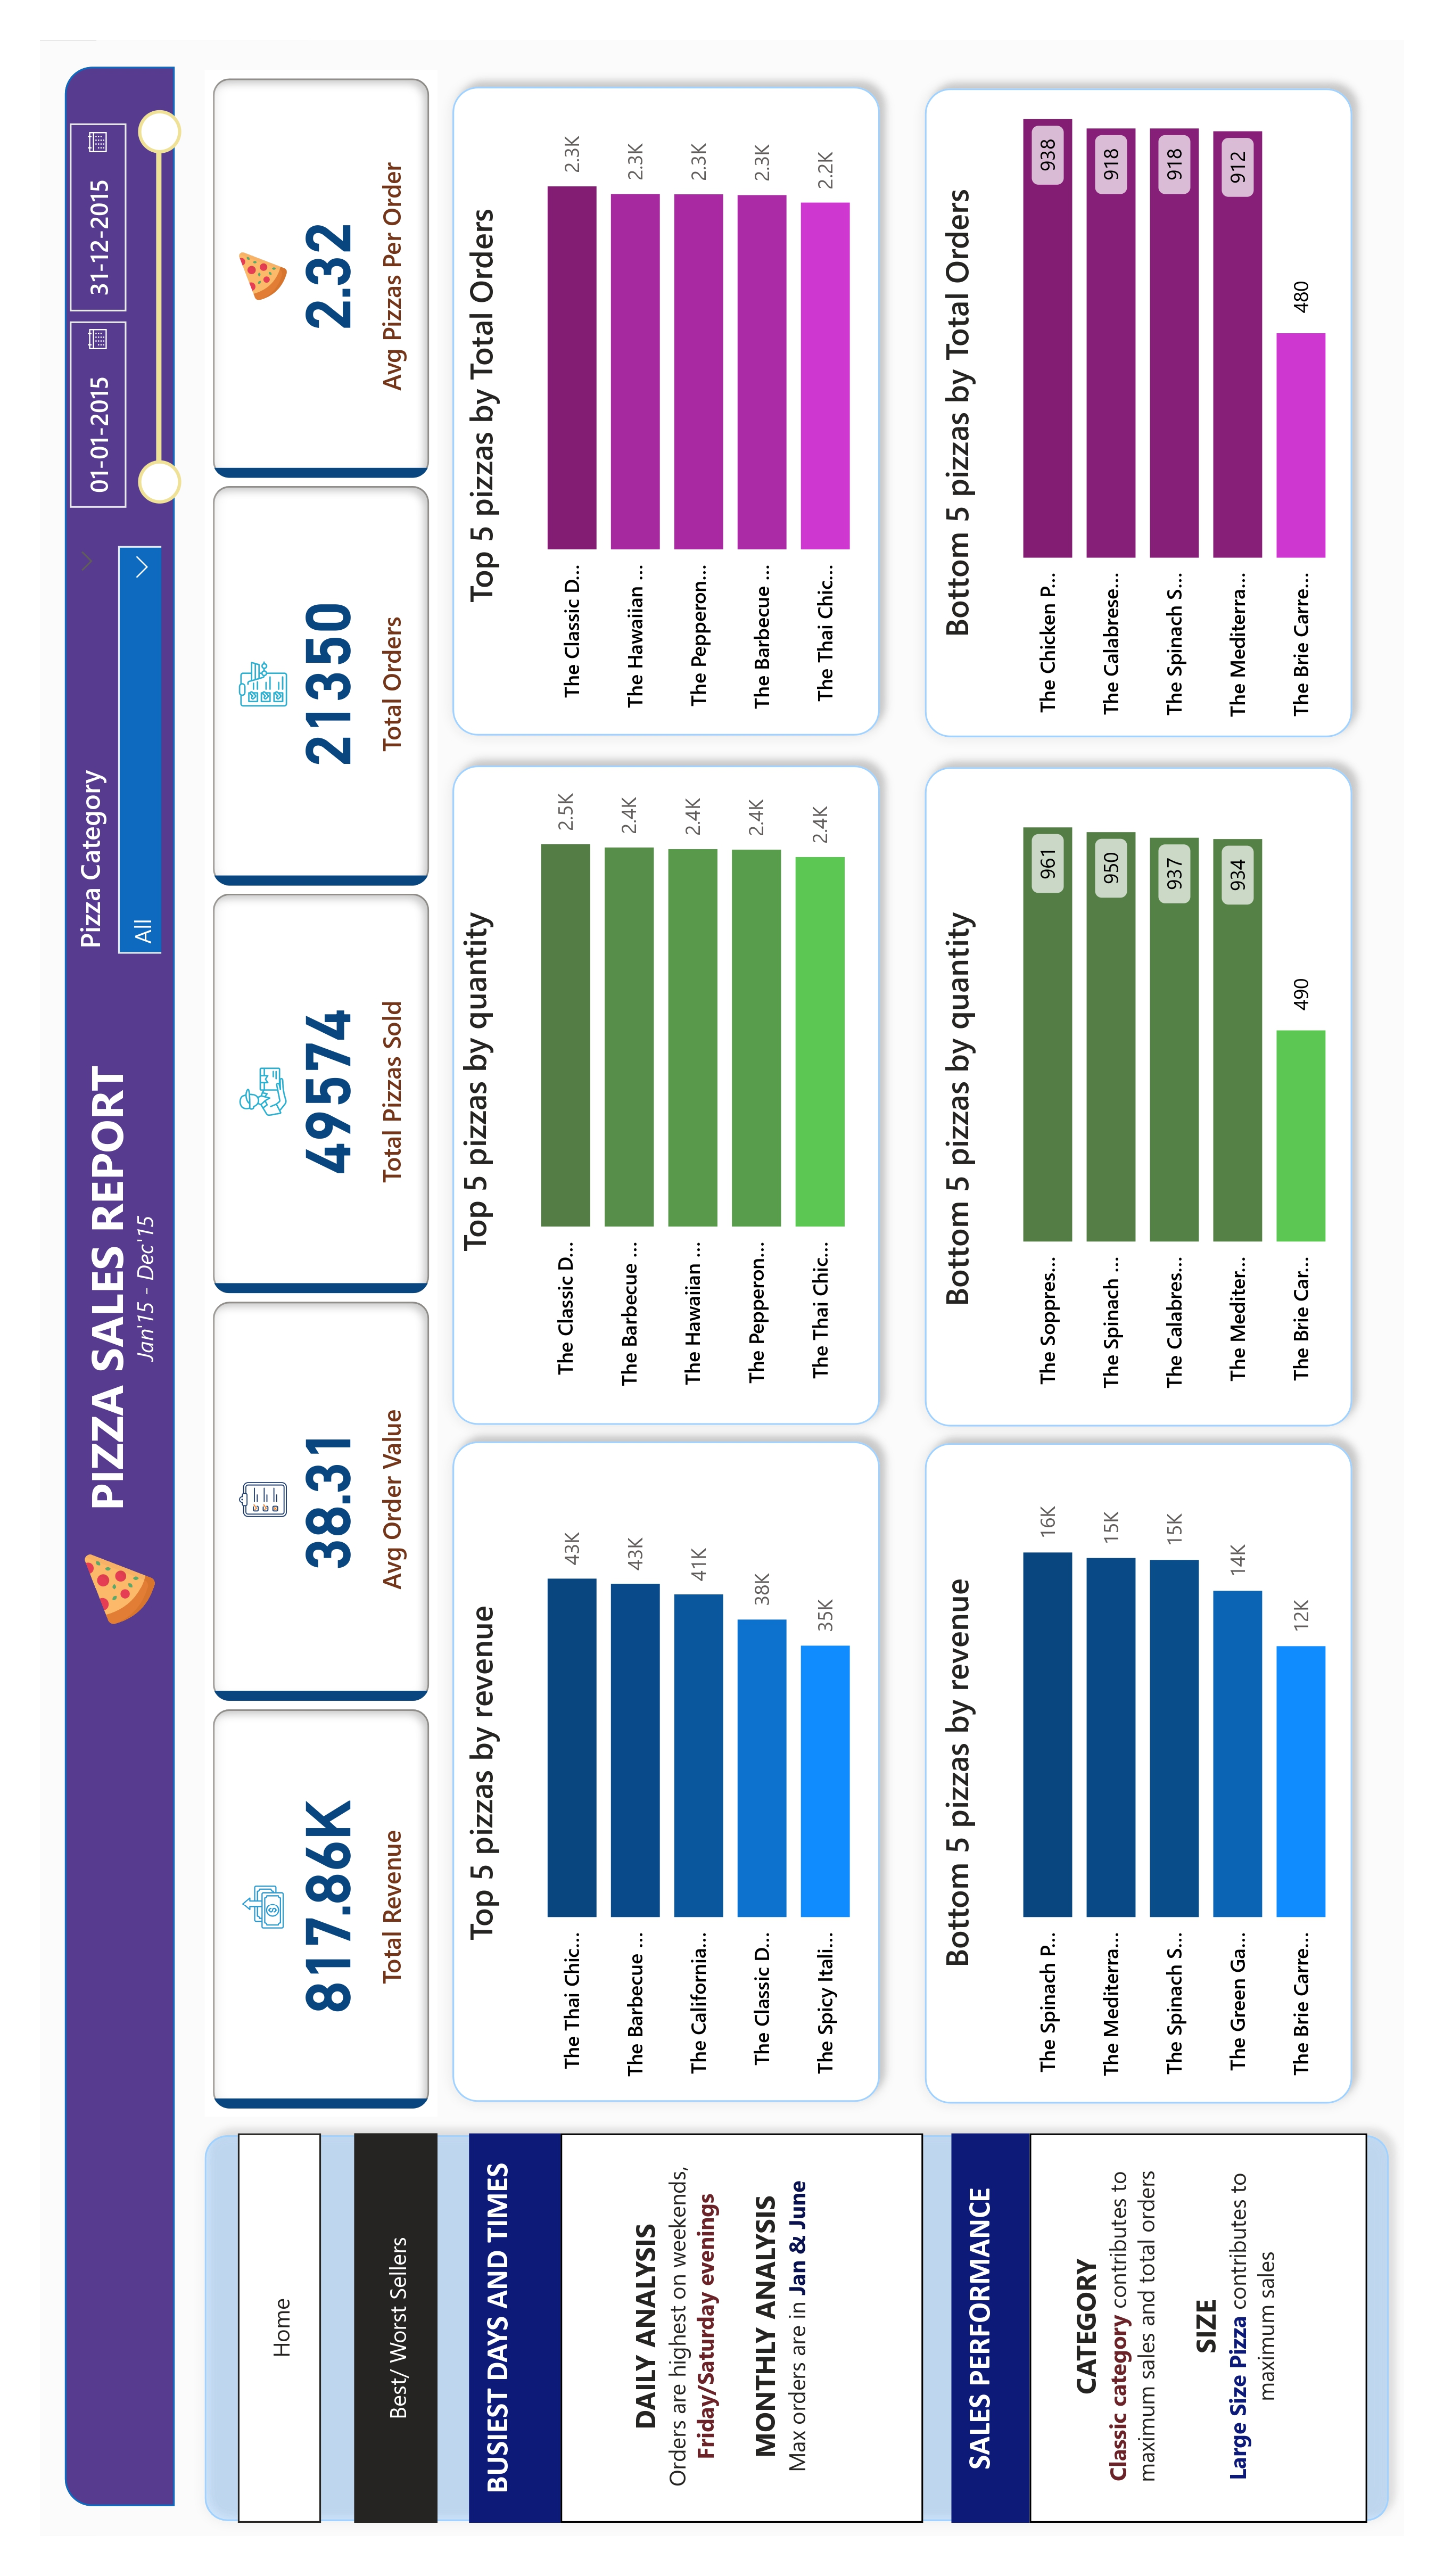

Layout of this report page (visuals, bound fields, positions):
{"tool":"powerbi","page":{"name":"Best/ Worst Sellers","canvas":[1500,820],"ordinal":1},"visuals":[{"type":"cardVisual","fields":{"Data":["pizza_sales.Total Revenue","pizza_sales.Avg Order Value","pizza_sales.Total Pizzas Sold","pizza_sales.Total Orders","pizza_sales.Avg Pizzas Per Order"]},"box":[252.2,98.5,1229.9,140.3],"z":0},{"type":"shape","box":[17.9,14.9,1465.7,65.7],"z":1000},{"type":"textbox","box":[0,16.4,1500,52.2],"z":2000},{"type":"textbox","box":[0,49.3,1500,40.3],"z":3000},{"type":"image","box":[526.9,20.9,83.6,53.7],"z":4000},{"type":"shape","box":[252.2,238.8,415,275],"z":5000},{"type":"shape","box":[0,90,250,730],"z":6000},{"type":"textbox","box":[7.8,257.8,234.4,54.7],"z":7000},{"type":"textbox","box":[7.8,312.5,234.4,218.8],"z":8000},{"type":"textbox","box":[7.8,548.4,234.4,46.9],"z":9000},{"type":"textbox","box":[7.8,595.3,234.4,203.1],"z":10000},{"type":"slicer","fields":{"Values":["pizza_sales.pizza_category"]},"box":[940.6,14.1,265.6,59.4],"z":11000},{"type":"slicer","fields":{"Values":["pizza_sales.order_date"]},"box":[1206.2,7.8,259.4,84.4],"z":12000},{"type":"shape","box":[659.4,239.1,414.1,275],"z":13000},{"type":"shape","box":[1073.4,239.1,407.8,275],"z":14000},{"type":"shape","box":[251,522.6,415,275],"z":15000},{"type":"shape","box":[658.1,522.8,414.1,275],"z":16000},{"type":"shape","box":[1072.2,522.8,407.8,275],"z":17000},{"type":"barChart","title":"Top 5 pizzas by revenue","fields":{"Category":["pizza_sales.pizza_name"],"Y":["pizza_sales.Total Revenue"]},"box":[259.4,251.6,398.4,256.2],"z":18000},{"type":"barChart","title":"Bottom 5 pizzas by revenue","fields":{"Category":["pizza_sales.pizza_name"],"Y":["pizza_sales.Total Revenue"]},"box":[259.4,537.5,398.4,256.2],"z":19000},{"type":"barChart","title":"Top 5 pizzas by quantity","fields":{"Category":["pizza_sales.pizza_name"],"Y":["pizza_sales.Total Pizzas Sold"]},"box":[675,248.4,398.4,256.2],"z":20000},{"type":"barChart","title":"Bottom 5 pizzas by quantity","fields":{"Category":["pizza_sales.pizza_name"],"Y":["pizza_sales.Total Pizzas Sold"]},"box":[673.4,537.5,368.8,256.2],"z":20001},{"type":"barChart","title":"Top 5 pizzas by Total Orders","fields":{"Category":["pizza_sales.pizza_name"],"Y":["pizza_sales.Total Orders"]},"box":[1081.2,251.6,398.4,256.2],"z":20002},{"type":"barChart","title":"Bottom 5 pizzas by Total Orders","fields":{"Category":["pizza_sales.pizza_name"],"Y":["pizza_sales.Total Orders"]},"box":[1076.6,537.5,398.4,256.2],"z":20003},{"type":"pageNavigator","box":[7.8,189.1,234.4,50],"z":20004},{"type":"pageNavigator","box":[7.8,118.8,234.4,50],"z":20005}]}

Visuals, with their boxes on the page's 1500x820 design canvas (x1, y1, x2, y2). These are canvas units, not pixel positions in the 1444x2576 screenshot, which may show the page scaled, cropped or inside an application window:
cardVisual - pizza_sales.Total Revenue x pizza_sales.Avg Order Value: rect(252, 98, 1482, 239)
shape: rect(18, 15, 1484, 81)
textbox: rect(0, 16, 1500, 69)
textbox: rect(0, 49, 1500, 90)
image: rect(527, 21, 610, 75)
shape: rect(252, 239, 667, 514)
shape: rect(0, 90, 250, 820)
textbox: rect(8, 258, 242, 312)
textbox: rect(8, 312, 242, 531)
textbox: rect(8, 548, 242, 595)
textbox: rect(8, 595, 242, 798)
slicer - pizza_sales.pizza_category: rect(941, 14, 1206, 74)
slicer - pizza_sales.order_date: rect(1206, 8, 1466, 92)
shape: rect(659, 239, 1074, 514)
shape: rect(1073, 239, 1481, 514)
shape: rect(251, 523, 666, 798)
shape: rect(658, 523, 1072, 798)
shape: rect(1072, 523, 1480, 798)
"Top 5 pizzas by revenue" barChart: rect(259, 252, 658, 508)
"Bottom 5 pizzas by revenue" barChart: rect(259, 538, 658, 794)
"Top 5 pizzas by quantity" barChart: rect(675, 248, 1073, 505)
"Bottom 5 pizzas by quantity" barChart: rect(673, 538, 1042, 794)
"Top 5 pizzas by Total Orders" barChart: rect(1081, 252, 1480, 508)
"Bottom 5 pizzas by Total Orders" barChart: rect(1077, 538, 1475, 794)
pageNavigator: rect(8, 189, 242, 239)
pageNavigator: rect(8, 119, 242, 169)
